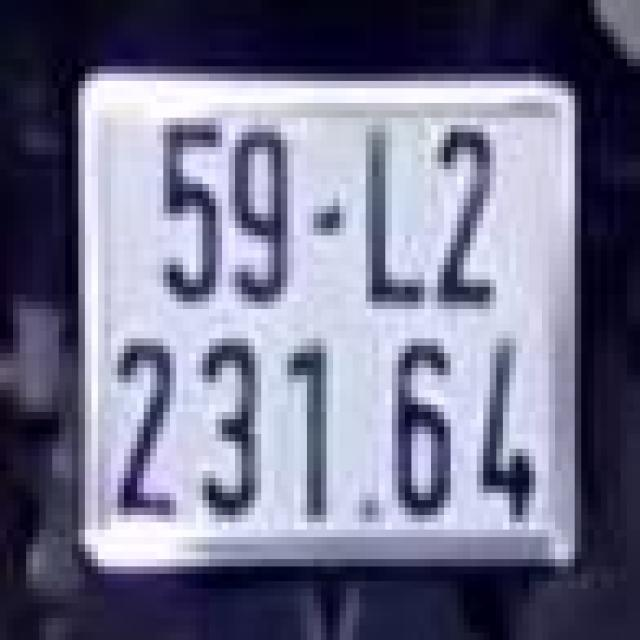1: (277, 327, 343, 526)
2: (104, 320, 183, 533), (434, 114, 506, 313)
3: (189, 335, 268, 526)
4: (473, 331, 552, 522)
5: (144, 110, 222, 309)
6: (389, 327, 467, 526)
9: (226, 114, 310, 320)
L: (349, 110, 428, 316)
